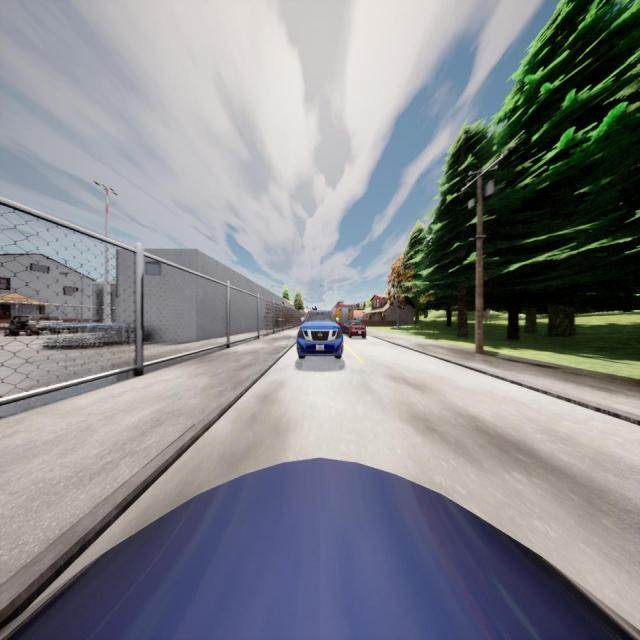Vehicle: (0, 458, 640, 640), (296, 309, 342, 359), (8, 316, 61, 332), (330, 304, 355, 322), (342, 321, 367, 338)
